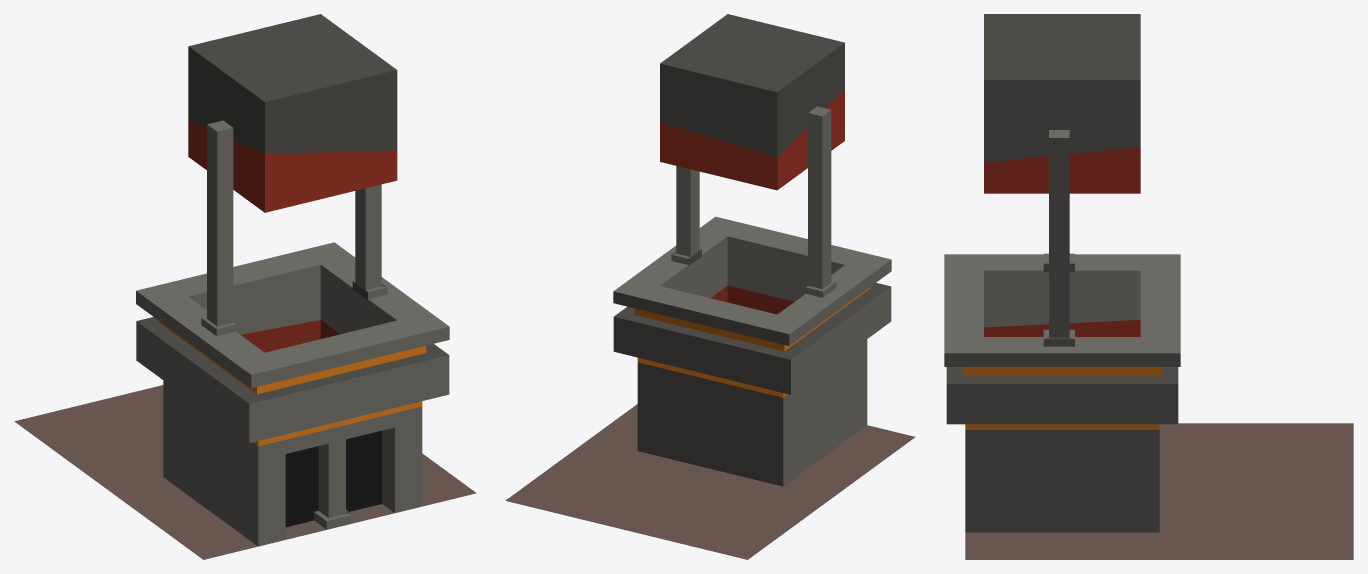
File: Smusher-lvl001.fbx
The picture shows the model from 3 angles, left to right: view 1: azimuth 30°, elevation 25°; view 2: azimuth 150°, elevation 25°; view 3: azimuth 270°, elevation 25°; orthographic projection. The views are drawn at different scales.
Visible parts, largest first — view 1: Deboner.001, Deboner.002; view 2: Deboner.001, Deboner.002; view 3: Deboner.001, Deboner.002.
Part boxes in pixels (x1=…): Deboner.001: x1=14, y1=120, x2=476, y2=559; Deboner.002: x1=188, y1=14, x2=397, y2=212; Deboner.001: x1=505, y1=106, x2=915, y2=559; Deboner.002: x1=660, y1=14, x2=844, y2=190; Deboner.001: x1=944, y1=130, x2=1353, y2=559; Deboner.002: x1=984, y1=14, x2=1140, y2=193.
Bounding box in the file's own units: 500 × 758 × 632.
